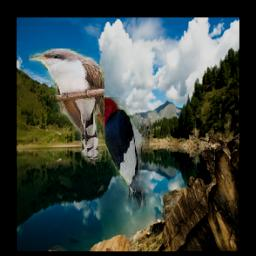Cuckoo: (30, 48, 105, 162)
Woodpecker: (85, 97, 152, 210)
